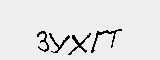Г: (90, 27, 108, 53)
З: (34, 28, 51, 56)
Т: (103, 29, 122, 53)
У: (47, 28, 69, 58)
Х: (67, 29, 90, 56)
